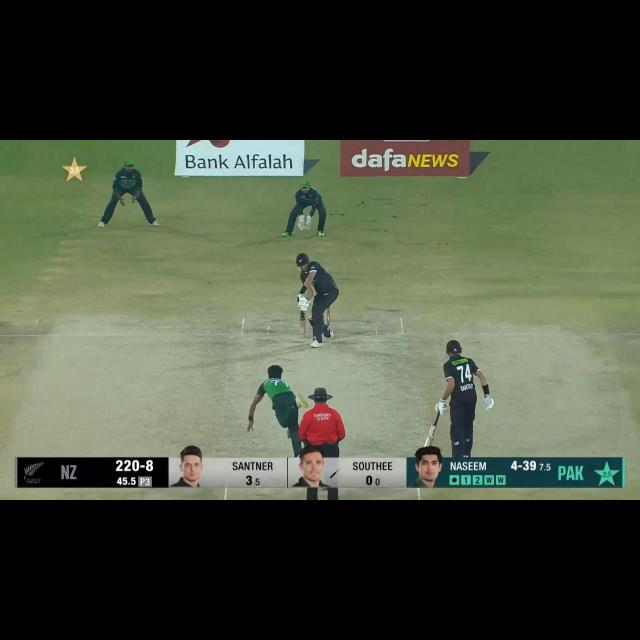bat: (420, 422, 438, 452), (299, 311, 307, 336)
toe: (299, 329, 307, 336)
